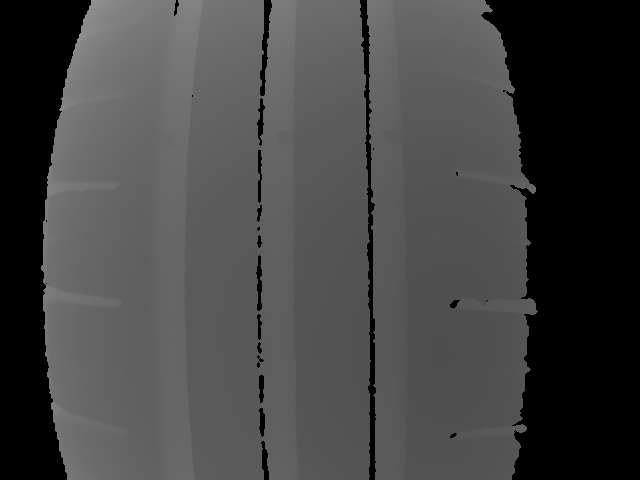high: (298, 282, 307, 303)
low: (274, 283, 281, 303)
